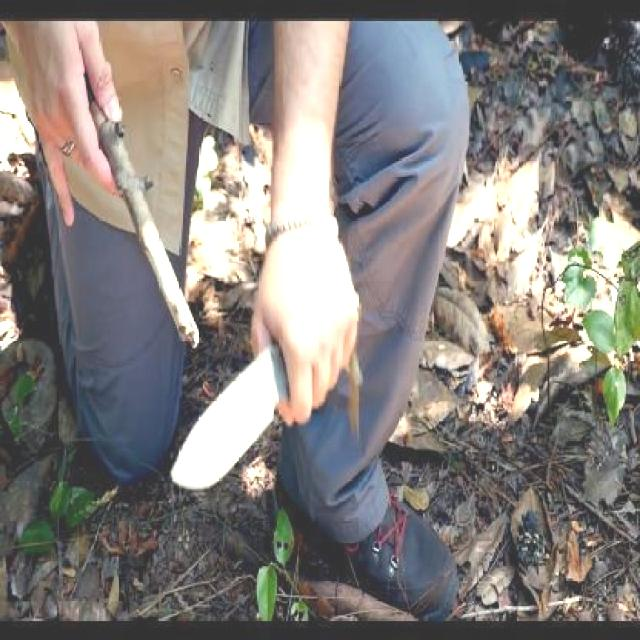knife: (166, 306, 348, 500)
